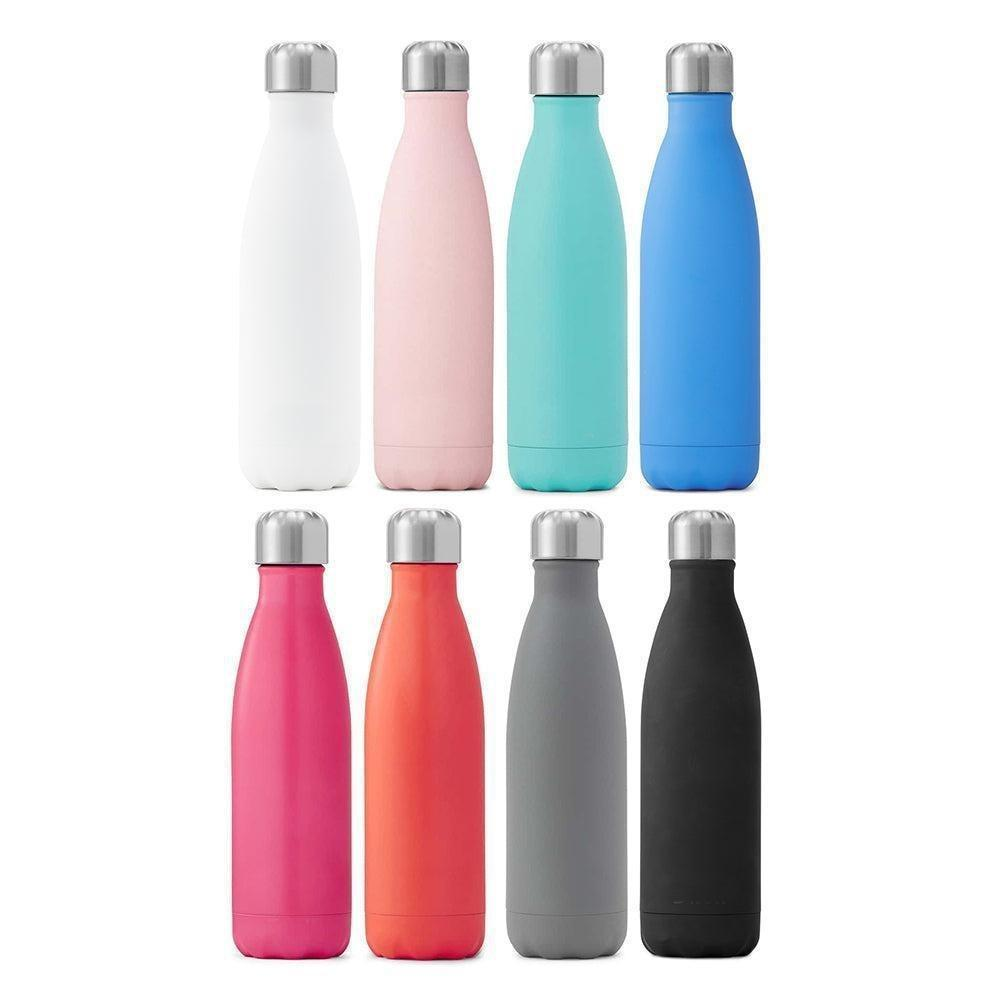gym bottle: (500, 33, 636, 496), (223, 511, 360, 969), (234, 36, 370, 497), (501, 501, 634, 966), (638, 502, 771, 964), (637, 38, 769, 496), (369, 38, 500, 498), (362, 505, 491, 965)
